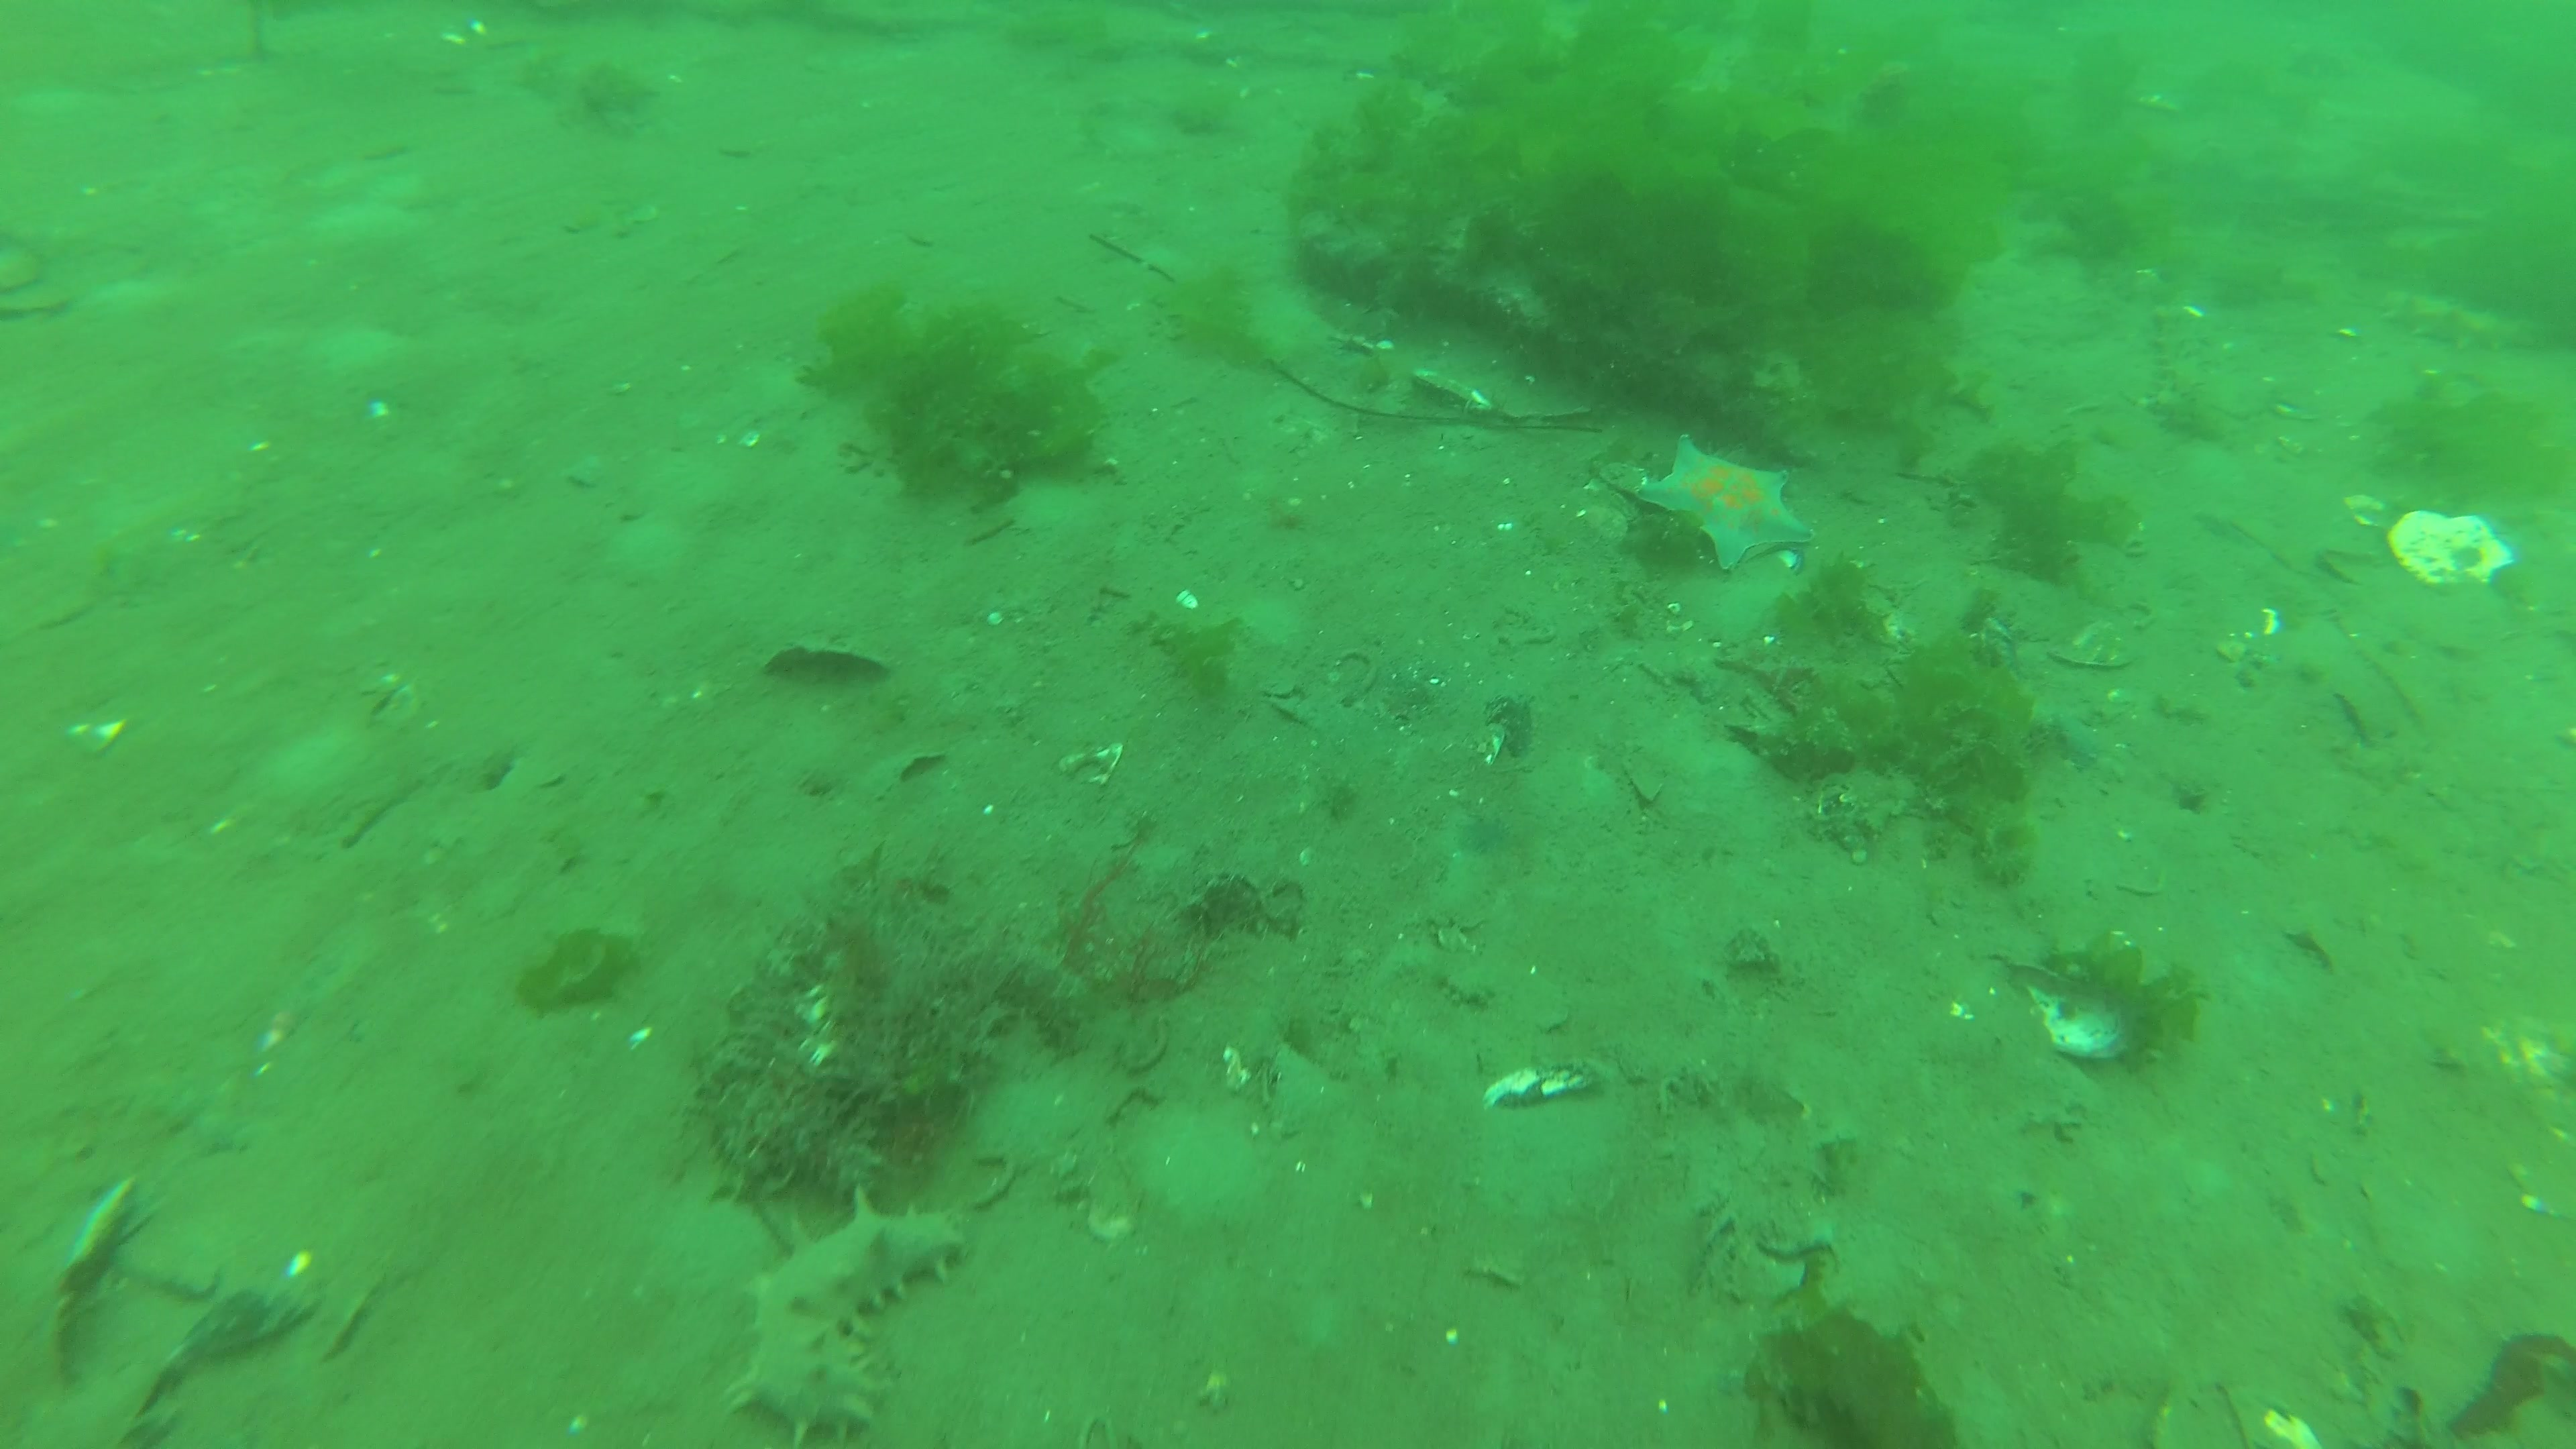holothurian: (724, 1180, 964, 1449), (2381, 292, 2528, 357)
scallop: (2385, 508, 2518, 584)
starfish: (1637, 432, 1819, 575)
